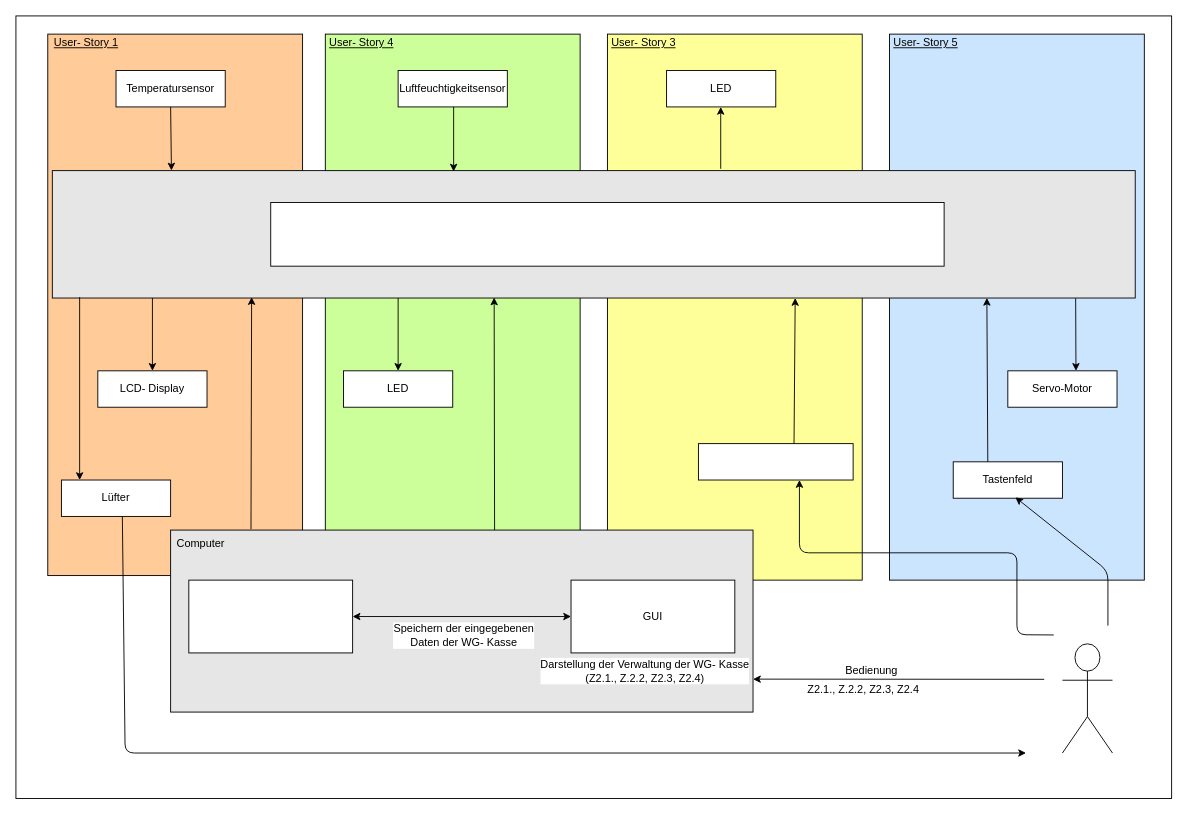
The diagram is 1188 pixels wide and 814 high, and some of its shapes have lost their labels. Here are the shapes that lost their labels. From the top down, the centre of each, then its label:
At point (607, 234): "Arduino".
At point (775, 461): "Bewegungssensor".
At point (270, 616): "Datenbank".
At point (1087, 698): "Nutzer".
